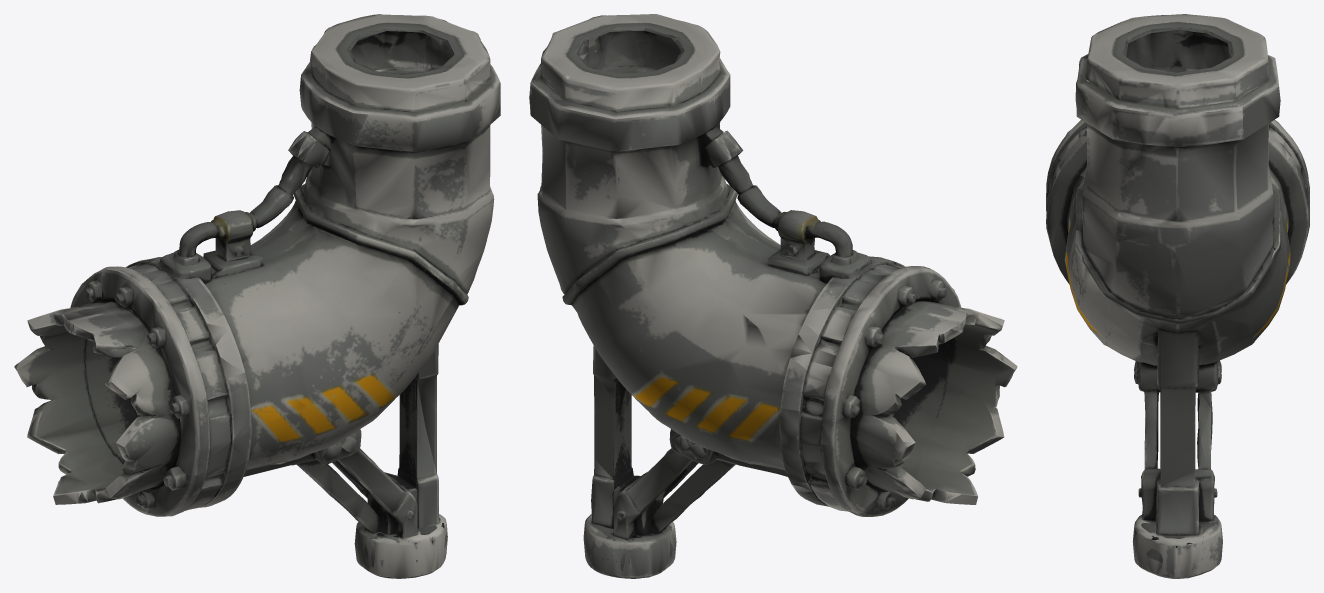
Rendered from 04_gas_vent_hardware.fbx.
The picture shows the model from 3 angles, left to right: view 1: azimuth 30°, elevation 25°; view 2: azimuth 150°, elevation 25°; view 3: azimuth 270°, elevation 25°; orthographic projection.
Visible parts, largest first — view 1: 04_gas_vent_hardware; view 2: 04_gas_vent_hardware; view 3: 04_gas_vent_hardware.
Part boxes in pixels (x1,y1,x2,y2): 04_gas_vent_hardware: (14, 14, 500, 578); 04_gas_vent_hardware: (529, 14, 1017, 578); 04_gas_vent_hardware: (1046, 14, 1309, 578).
Size of the model in its own units: 1.93 by 2.2 by 1.03.
1 material, 1 textured.
